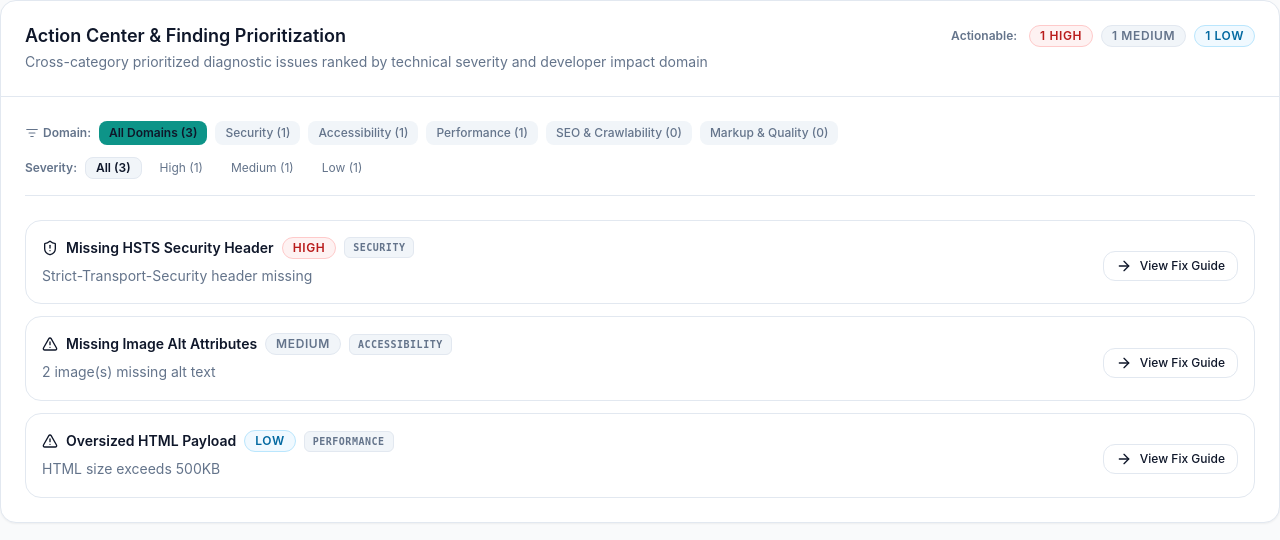
it: ActionCenterCard Component Suite (M8) › filters items by technical domain tabs
Click Security domain tab
Click the button "Security (1)" at (258, 132), box x1=215 y1=120 x2=300 y2=144
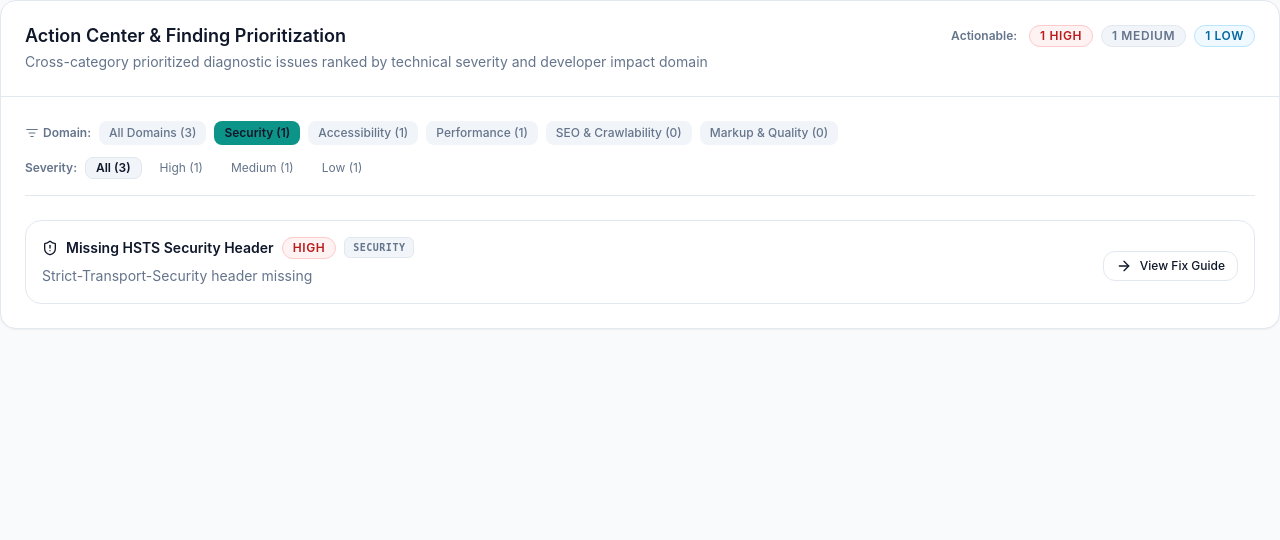
Check: the heading "Missing HSTS Security Header" is shown, box x1=66 y1=238 x2=274 y2=258
Check: the heading "Missing Image Alt Attributes" is gone
Check: the heading "Oversized HTML Payload" is gone
Click Accessibility domain tab
Click the button "Accessibility (1)" at (363, 132), box x1=308 y1=120 x2=418 y2=144
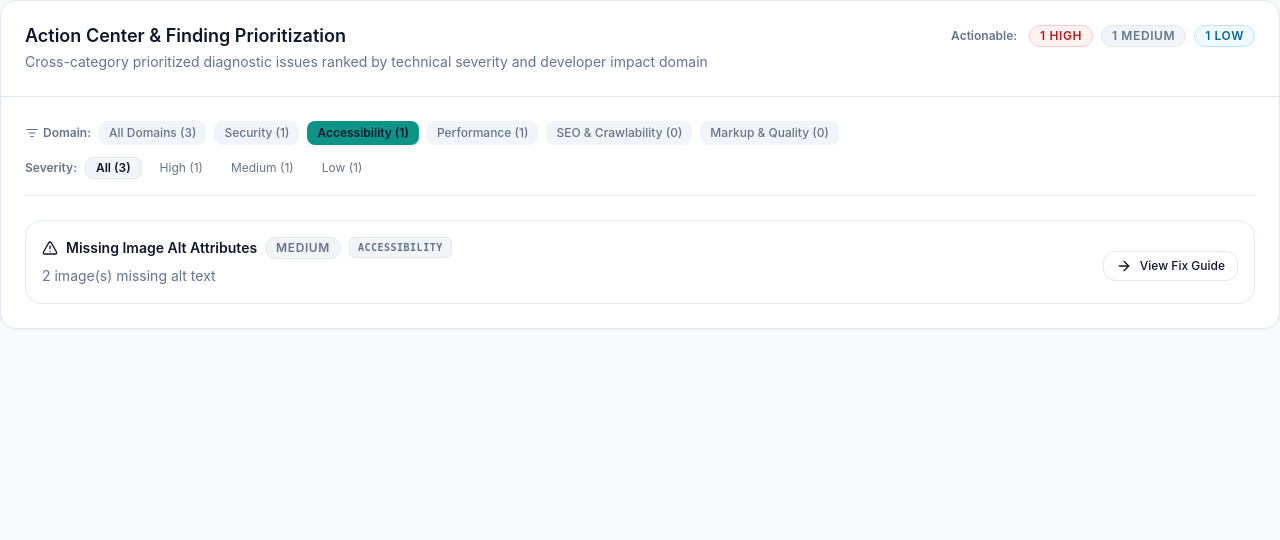
Check: the heading "Missing Image Alt Attributes" is shown, box x1=66 y1=238 x2=257 y2=258
Check: the heading "Missing HSTS Security Header" is gone
